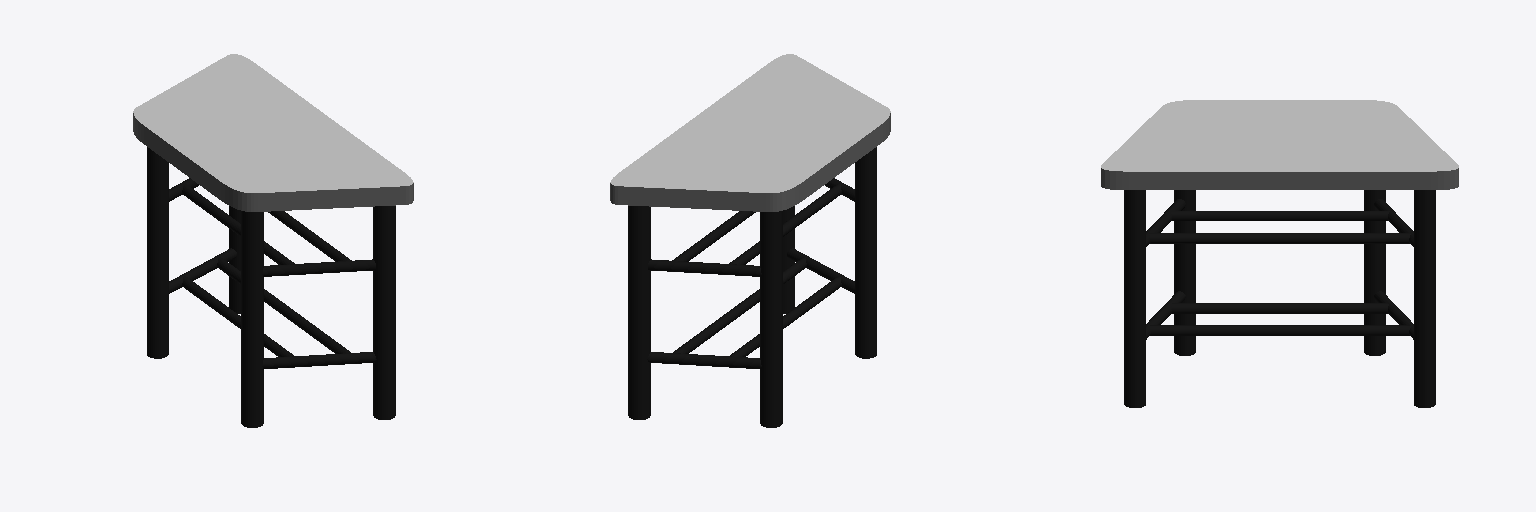
The model's file is sujetabolas.obj.
3 views of the same model, side by side, from view 1: azimuth 30°, elevation 25°; view 2: azimuth 150°, elevation 25°; view 3: azimuth 270°, elevation 25° (orthographic).
Parts seen in each view (by area): view 1: Cube, Cylinder.003, Cylinder.005, Cylinder.004, Cylinder.006, Cylinder.007, Cylinder.011, Cylinder.008, Cylinder.010, Cylinder.009, Cylinder.001; view 2: Cube, Cylinder.004, Cylinder.001, Cylinder.003, Cylinder.006, Cylinder.007, Cylinder.011, Cylinder.008, Cylinder.010, Cylinder.009, Cylinder.005; view 3: Cube, Cylinder.001, Cylinder.005, Cylinder.009, Cylinder.011, Cylinder.003, Cylinder.004, Cylinder.010, Cylinder.008, Cylinder.007, Cylinder.006.
Part boxes in pixels (x1,y1,x2,y2): Cube: (133,54,413,211); Cylinder.003: (241,211,263,427); Cylinder.005: (373,206,395,419); Cylinder.004: (147,147,168,358); Cylinder.006: (169,248,376,368); Cylinder.007: (169,178,375,276); Cylinder.011: (217,257,350,353); Cylinder.008: (182,184,294,264); Cylinder.010: (182,276,293,356); Cylinder.009: (268,211,351,261); Cylinder.001: (229,206,240,313); Cube: (610,54,890,211); Cylinder.004: (760,211,782,427); Cylinder.001: (628,206,650,419); Cylinder.003: (855,147,876,358); Cylinder.006: (647,248,854,368); Cylinder.007: (648,178,854,276); Cylinder.011: (673,257,806,353); Cylinder.008: (729,184,841,264); Cylinder.010: (730,276,841,356); Cylinder.009: (672,211,755,261); Cylinder.005: (783,206,794,313); Cube: (1101,100,1458,189); Cylinder.001: (1414,190,1435,407); Cylinder.005: (1124,190,1145,407); Cylinder.009: (1149,233,1410,243); Cylinder.011: (1149,325,1410,335); Cylinder.003: (1174,190,1195,355); Cylinder.004: (1364,190,1385,355); Cylinder.010: (1171,303,1388,313); Cylinder.008: (1170,211,1389,220); Cylinder.007: (1146,199,1413,246); Cylinder.006: (1146,291,1413,339).
Size of the model in its own units: 3.06 by 4.77 by 6.44.